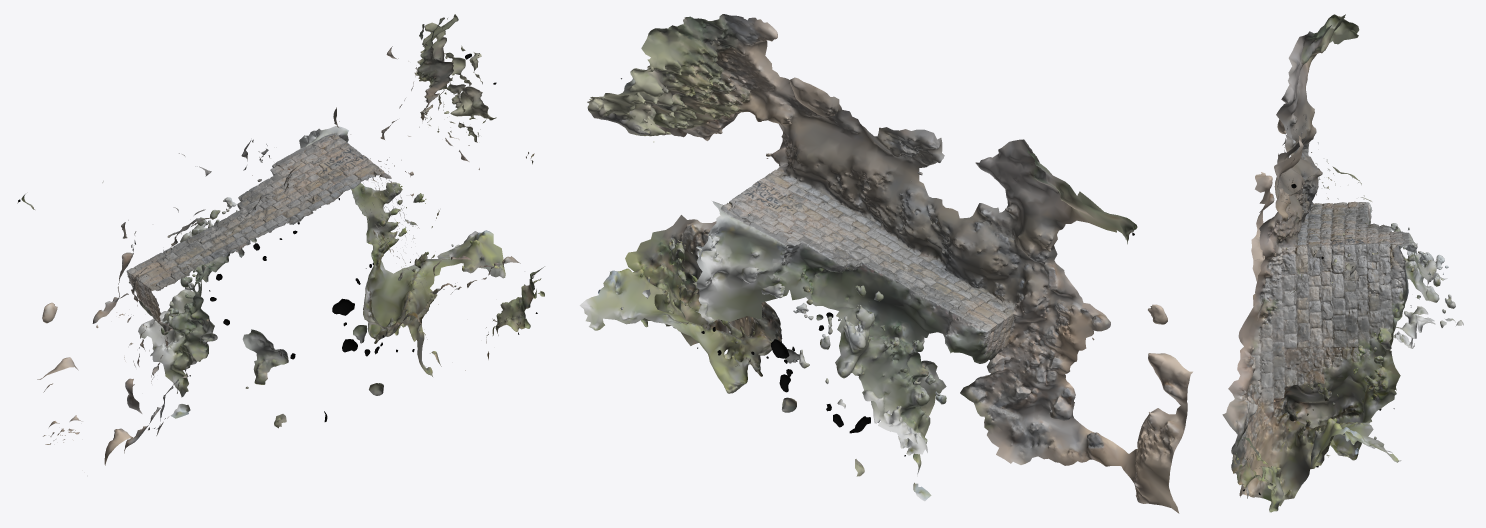
File: parod_new_good.glb
3 renders of one model, left to right at view 1: azimuth 30°, elevation 25°; view 2: azimuth 150°, elevation 25°; view 3: azimuth 270°, elevation 25°, orthographic. The views are drawn at different scales.
Bounding box in the file's own units: 11.83 × 8.33 × 4.59.
